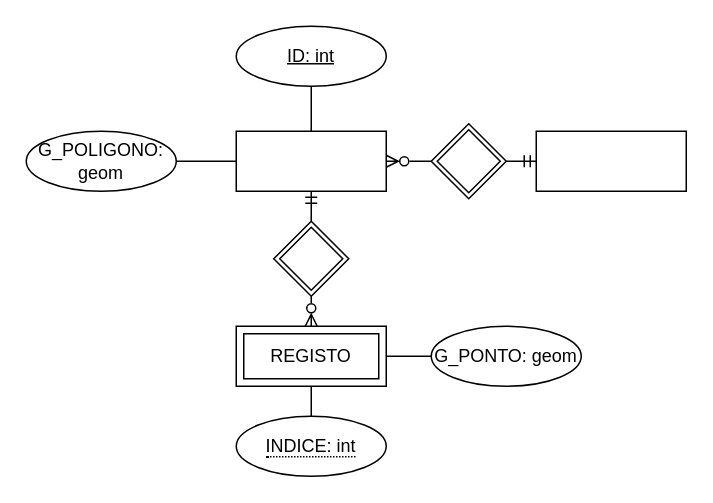
Some shapes in this 713 by 503 pixel diagram are drawn without their labels. The shapes that lost their labels are listed below. From the top down, each one's centre as x and y in pixels, then its label:
At (310,160): "TERRENO".
At (610,160): "TIPO DE TERRENO".
